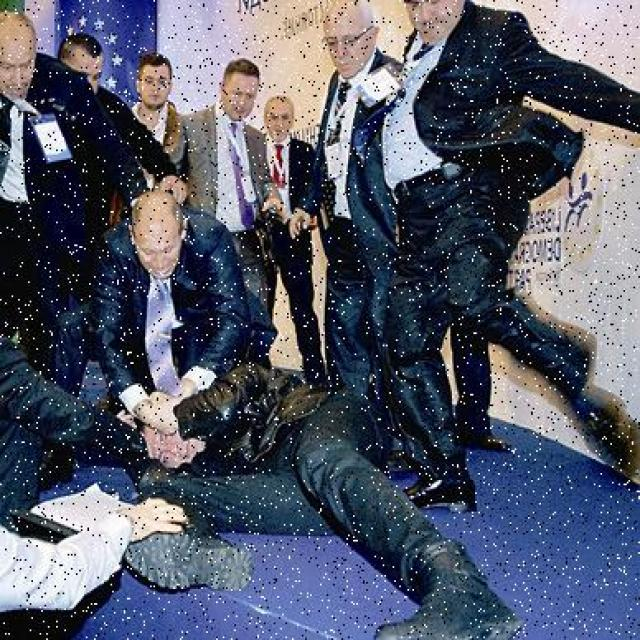fall: (162, 371, 494, 638)
